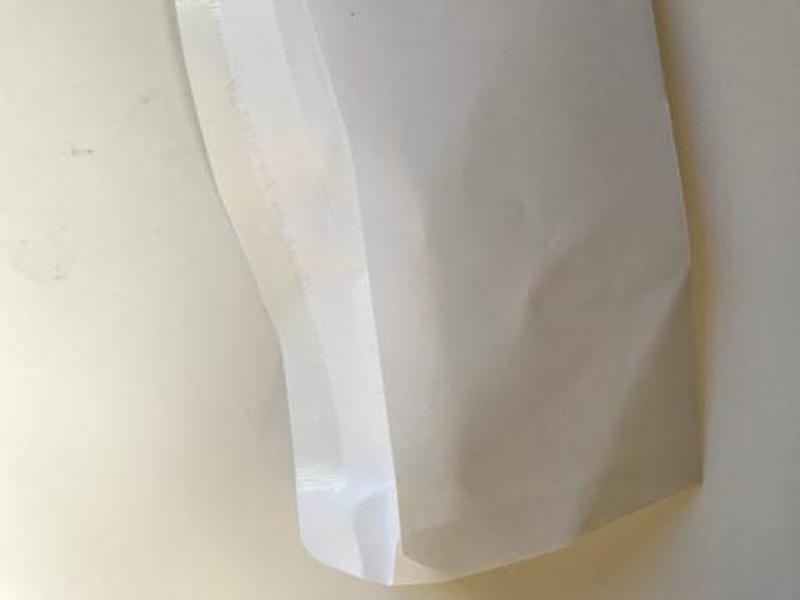paper: (164, 1, 714, 591)
